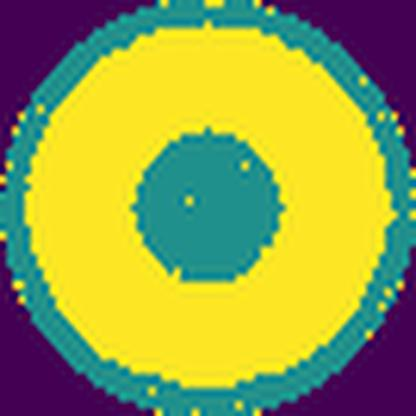Donut: (20, 20, 400, 398)
